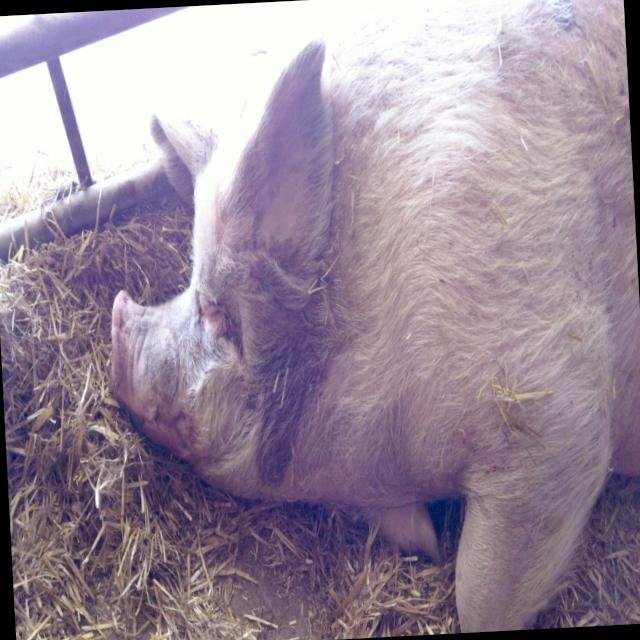pig: (107, 0, 640, 633)
